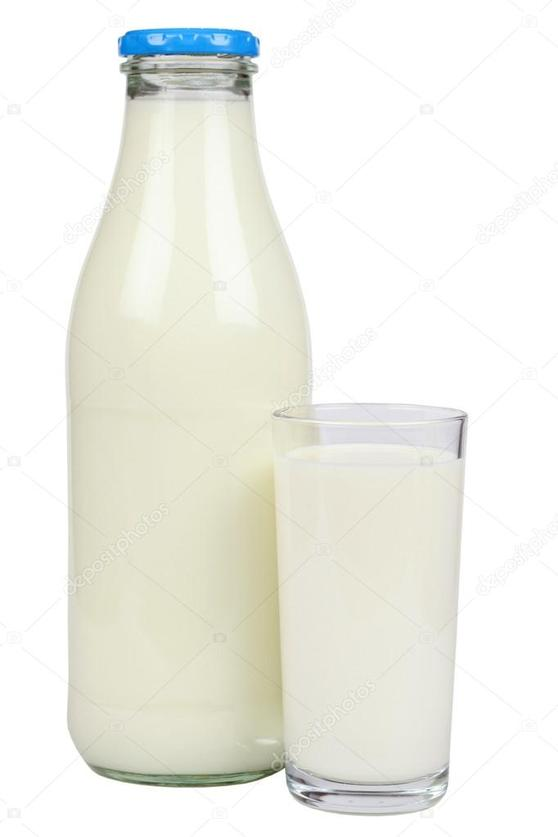milk: (67, 26, 338, 790)
